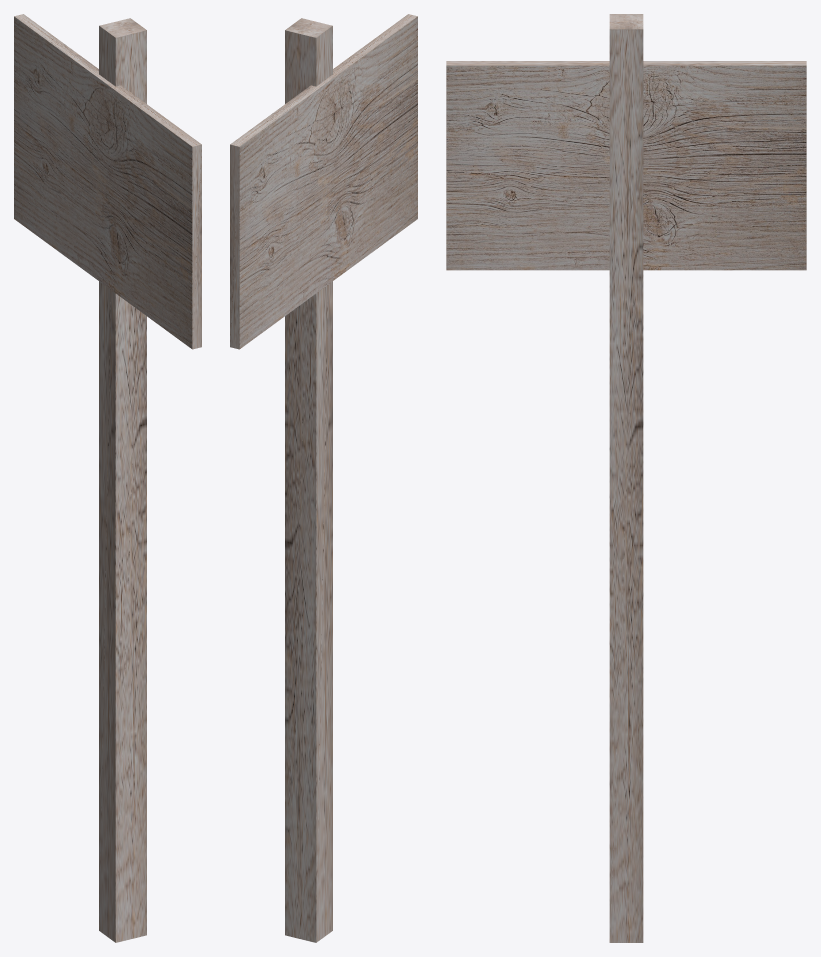
The model's file is Schild geradeaus.fbx.
The picture shows the model from 3 angles, left to right: view 1: azimuth 30°, elevation 25°; view 2: azimuth 150°, elevation 25°; view 3: azimuth 270°, elevation 25°; orthographic projection.
Parts seen in each view (by area): view 1: Cube__1_, Cube; view 2: Cube__1_, Cube; view 3: Cube__1_, Cube.
Boxes of the visible parts, x1=… form: Cube__1_: x1=14, y1=14, x2=201, y2=349; Cube: x1=99, y1=18, x2=146, y2=942; Cube__1_: x1=230, y1=14, x2=417, y2=349; Cube: x1=285, y1=18, x2=332, y2=942; Cube__1_: x1=446, y1=61, x2=806, y2=270; Cube: x1=609, y1=14, x2=643, y2=942.
Bounding box in the file's own units: 12.87 × 313 × 112.
